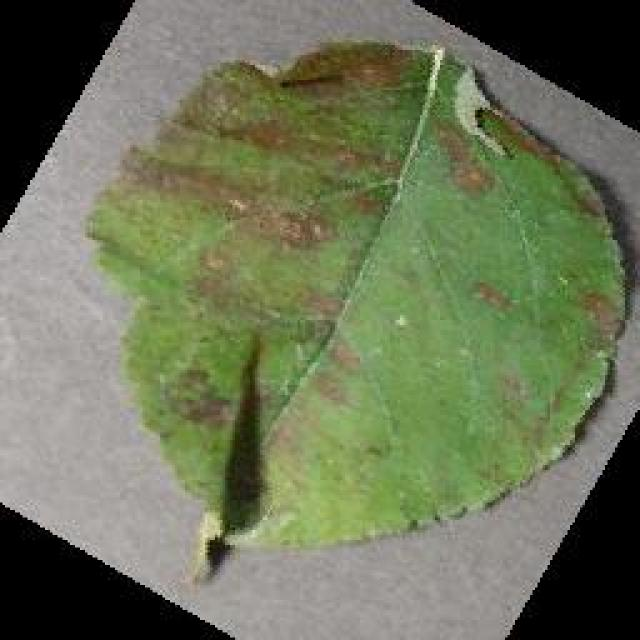apple scab disease: (82, 35, 630, 580)
